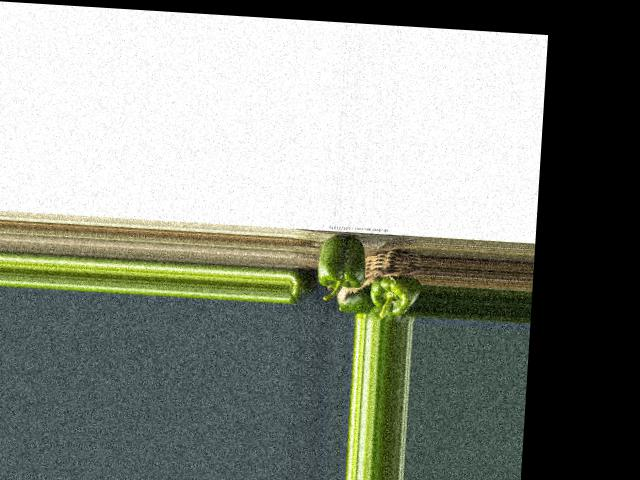bell_pepper: (287, 273, 308, 304)
